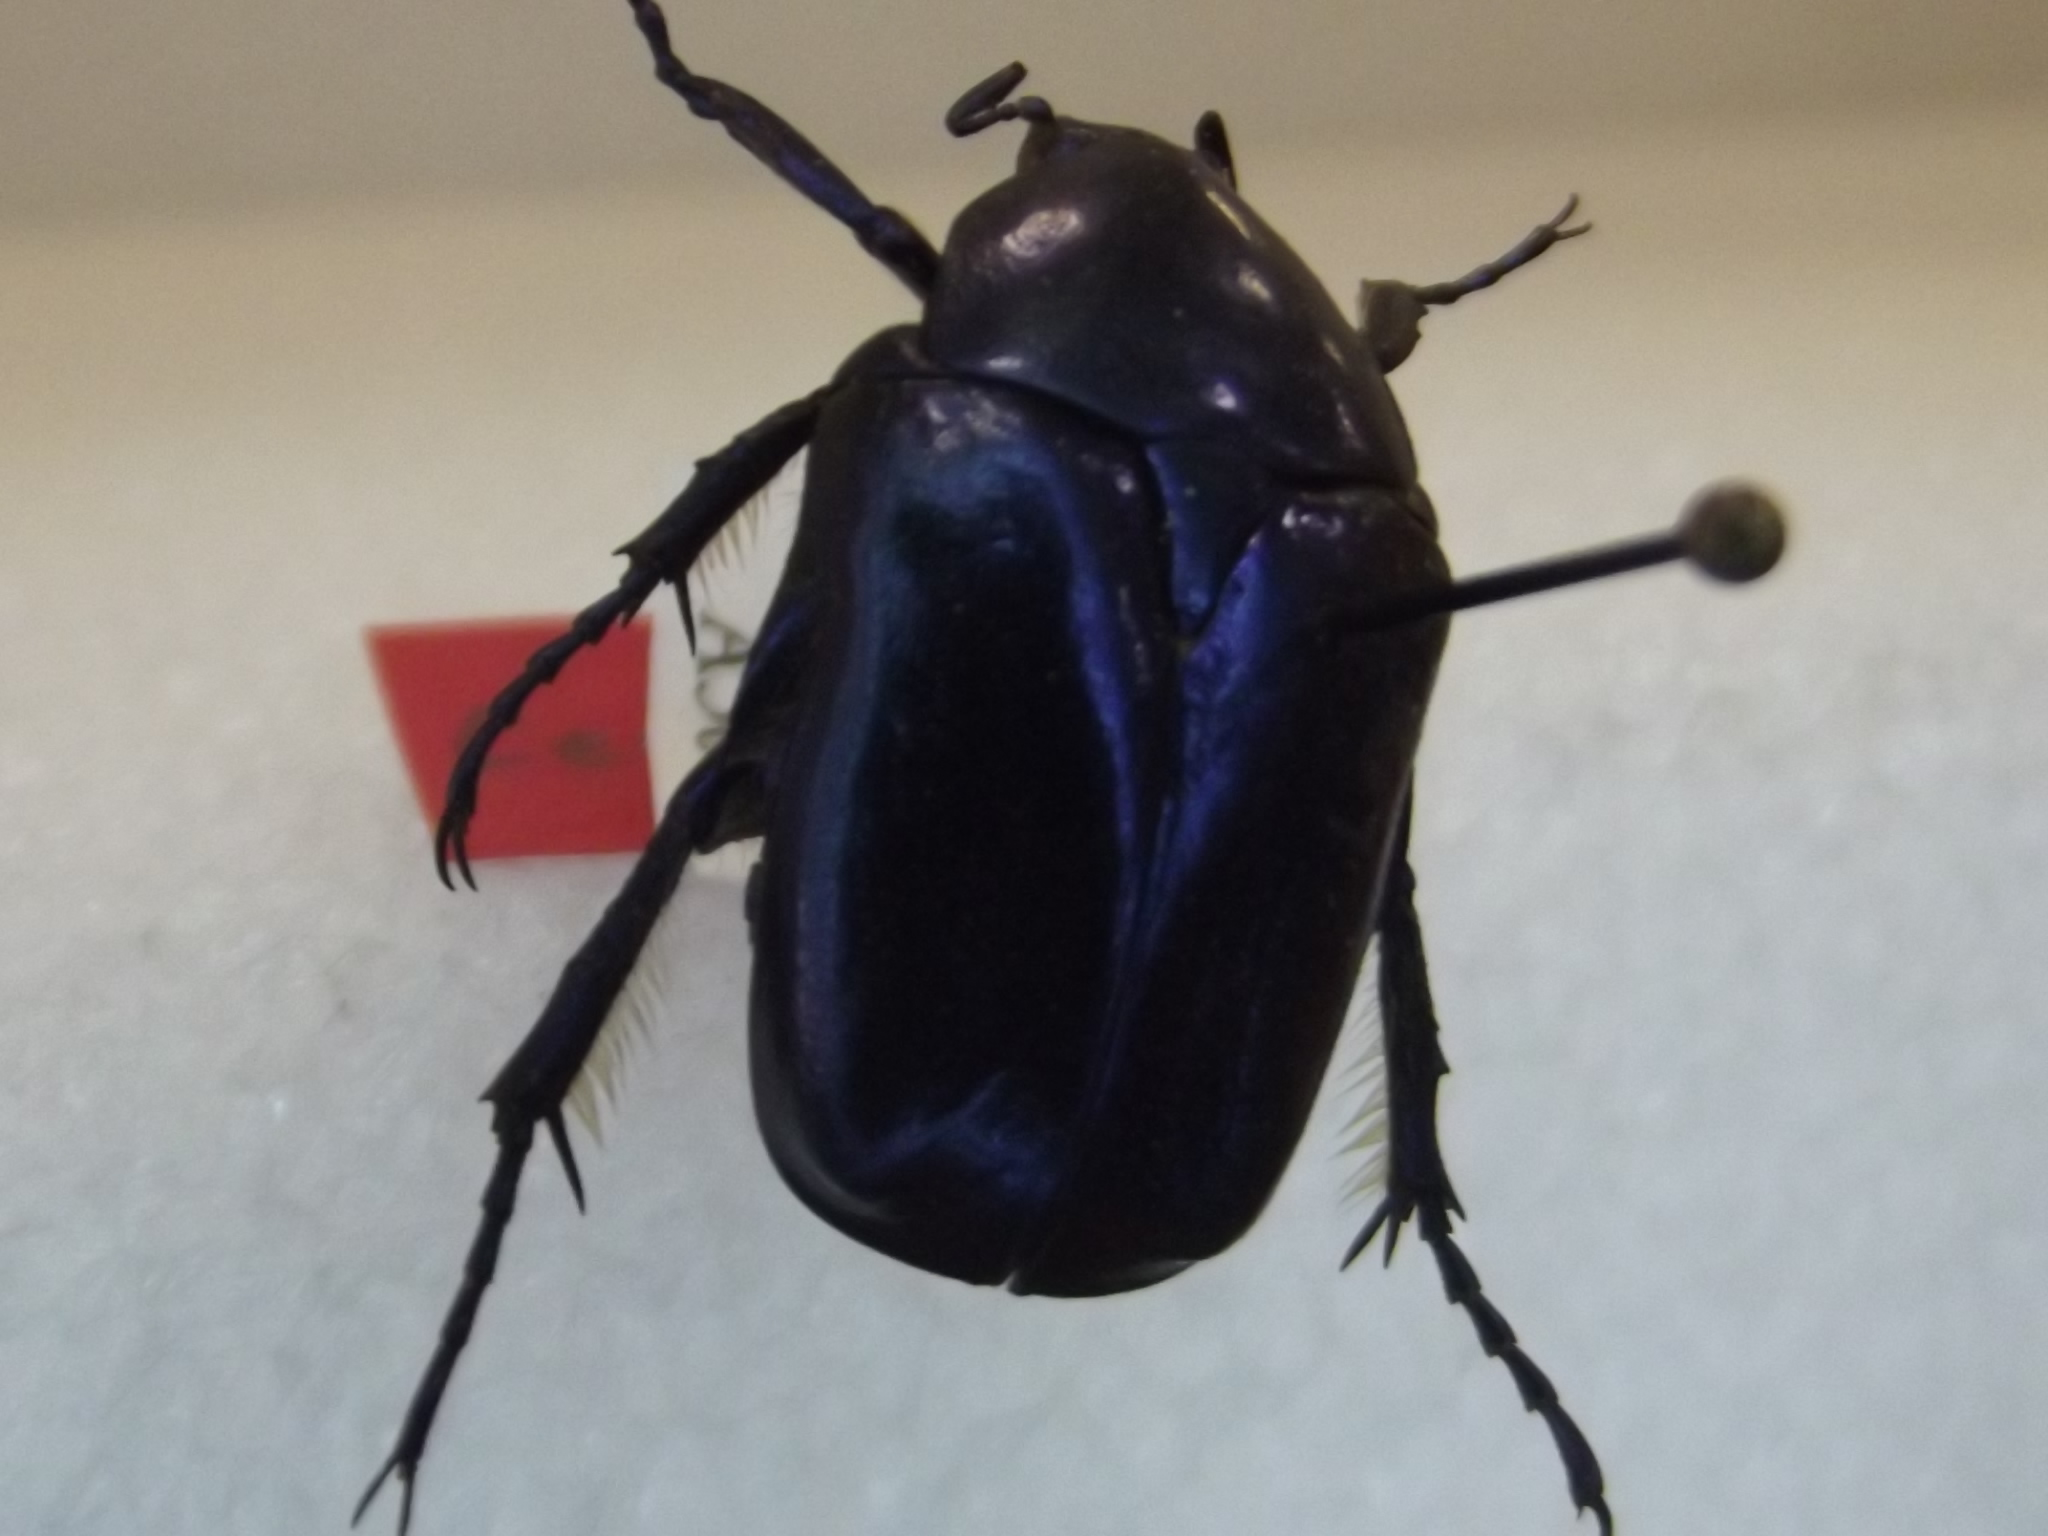Protaetia_besucheti: (326, 2, 1637, 1536)
